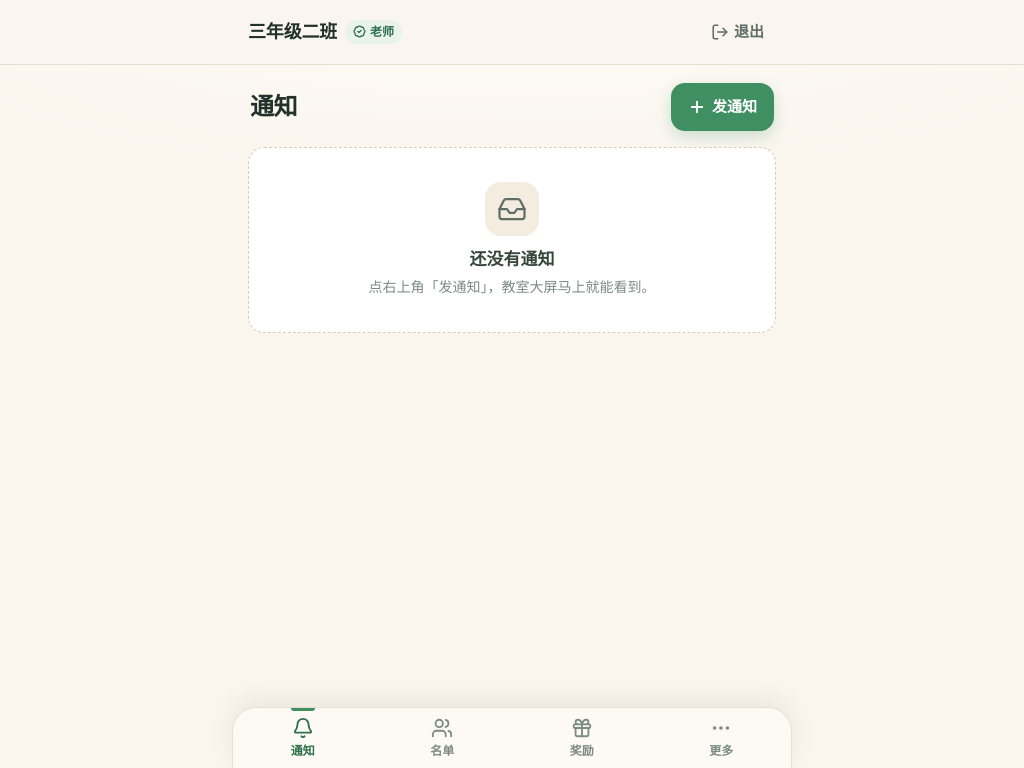
Test case: 老师手机版 › TestStudentsTabShowsRoster
This screenshot has width=1024, height=768.
Expected: the text "三年级二班" is shown, [248,18,337,46]
Click the button "名单". click: point(442, 738)
box: [372,708,512,767]
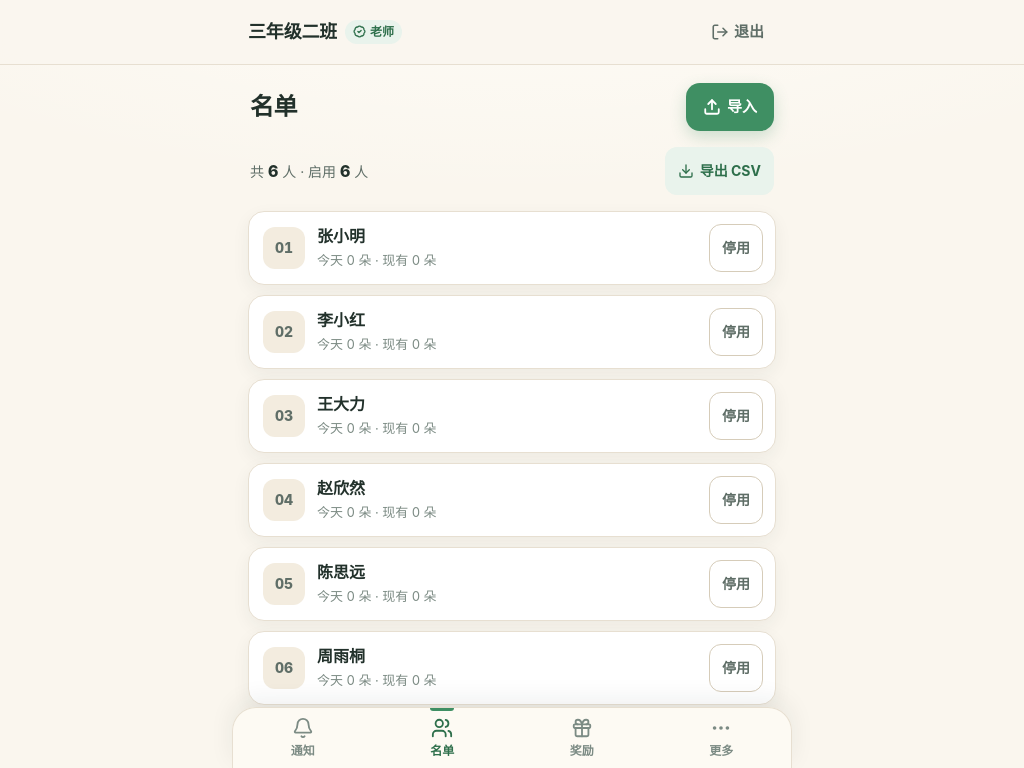
Expected: the text "张小明" is shown, [317,226,365,246]
Expected: the number of list items is 6, [248,211,776,285]; [248,295,776,369]; [248,379,776,453]; [248,463,776,537]; [248,547,776,621]; [248,631,776,705]
Expected: the number of buttons "停用" is 6, [709,224,763,272]; [709,308,763,356]; [709,392,763,440]; [709,476,763,524]; [709,560,763,608]; [709,644,763,692]
